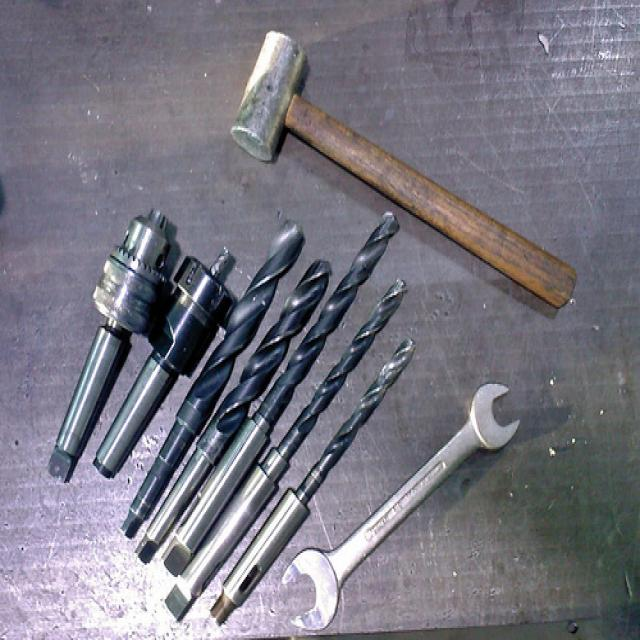hammer: (230, 31, 579, 309)
spanner: (280, 384, 521, 631)
